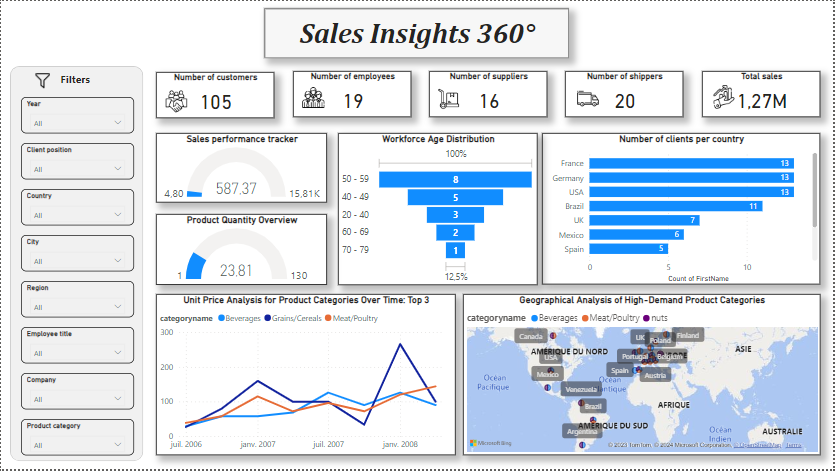

This screenshot's page, from the dashboard's own definition file:
{"tool":"powerbi","page":{"name":"Page 1","canvas":[1280,720],"ordinal":0},"visuals":[{"type":"shape","box":[405,10,469,77],"z":0},{"type":"textbox","box":[447,19,385,60],"z":1000},{"type":"shape","box":[14,100,205,608],"z":2000},{"type":"image","box":[40,106,48,33],"z":3000},{"type":"textbox","box":[71,105,87,33],"z":4000},{"type":"slicer","title":"Year","fields":{"Values":["FactSales.shippeddate.Variation.Hiérarchie de dates.Année"]},"box":[30,147,174,56],"z":5000},{"type":"slicer","title":"City","fields":{"Values":["DimClient.city"]},"box":[30,359.6,174,56],"z":6000},{"type":"slicer","title":"Country","fields":{"Values":["DimClient.country"]},"box":[30,288.7,174,56],"z":7000},{"type":"slicer","title":"Region","fields":{"Values":["DimClient.region"]},"box":[30,430.4,174,56],"z":8000},{"type":"slicer","title":"Employee title","fields":{"Values":["DimEmployee.TitleEmp"]},"box":[30,501.3,174,56],"z":9000},{"type":"slicer","title":"Company","fields":{"Values":["DimClient.companyname"]},"box":[30,572.1,174,56],"z":10000},{"type":"slicer","title":"Client position","fields":{"Values":["DimClient.contacttitle"]},"box":[30,217.9,174,56],"z":11000},{"type":"slicer","title":"Product category","fields":{"Values":["DimProduct.categoryname"]},"box":[30,643,174,56],"z":12000},{"type":"gauge","title":"Sales performance tracker","fields":{"Y":["Avg(FactSales.Tot_Sales)"],"MinValue":["Min(FactSales.Tot_Sales)"],"MaxValue":["Max(FactSales.Tot_Sales)"]},"box":[239,203,263,107],"z":13000},{"type":"card","title":"Number of customers","fields":{"Values":["CountNonNull(DimClient.custid)"]},"box":[239,109,182,71],"z":14000},{"type":"card","title":"Number of employees","fields":{"Values":["Count(DimEmployee.empid)"]},"box":[448.8,108,182,71],"z":15000},{"type":"card","title":"Number of suppliers","fields":{"Values":["Count(DimSuppliers.supplierid)"]},"box":[658.5,108,182,71],"z":16000},{"type":"card","title":"Number of shippers","fields":{"Values":["Count(DimShippers.shipperid)"]},"box":[868.2,108,182,71],"z":17000},{"type":"card","title":"Total sales","fields":{"Values":["Sum(FactSales.Tot_Sales)"]},"box":[1078,108,182,71],"z":18000},{"type":"image","box":[247,118,44,71],"z":19000},{"type":"image","box":[459,119,44,60],"z":20000},{"type":"image","box":[881,110,43,79],"z":21000},{"type":"image","box":[668,118,42,63],"z":22000},{"type":"image","box":[1086,125,51,46],"z":23000},{"type":"clusteredBarChart","title":"Number of clients per country","fields":{"Category":["DimClient.country"],"Y":["Count(DimClient.FirstName)"]},"box":[832.2,203.3,427.8,233.3],"z":24000},{"type":"funnel","title":"Workforce Age Distribution","fields":{"Category":["DimEmployee.Age_category"],"Y":["Count(DimEmployee.empid)"]},"box":[519,203,307,234],"z":25000},{"type":"gauge","title":"Product Quantity Overview","fields":{"Y":["Avg(FactSales.quantity)"],"MinValue":["Min(FactSales.quantity)"],"MaxValue":["Max(FactSales.quantity)"]},"box":[239,328,263,109],"z":26000},{"type":"lineChart","title":"Unit Price Analysis for Product Categories Over Time: Top 3","fields":{"Category":["FactSales.shippeddate.Variation.Hiérarchie de dates.Année","FactSales.shippeddate.Variation.Hiérarchie de dates.Trimestre"],"Y":["Sum(FactSales.unitprice)"],"Series":["DimProduct.categoryname"]},"box":[238.9,451.1,461.1,247.8],"z":27000},{"type":"map","title":"Geographical Analysis of High-Demand Product Categories","fields":{"Series":["DimProduct.categoryname"],"Category":["DimClient.country"]},"box":[710,451.1,550,247.8],"z":28000}]}

Visuals, with their boxes in screenshot pixels (x1, y1, x2, y2), scaled from the page's 1280x720 canvas onto the 836x473 screenshot:
shape: x1=265, y1=7, x2=571, y2=57
textbox: x1=292, y1=12, x2=543, y2=52
shape: x1=9, y1=66, x2=143, y2=465
image: x1=26, y1=70, x2=57, y2=91
textbox: x1=46, y1=69, x2=103, y2=91
"Year" slicer: x1=20, y1=97, x2=133, y2=133
"City" slicer: x1=20, y1=236, x2=133, y2=273
"Country" slicer: x1=20, y1=190, x2=133, y2=226
"Region" slicer: x1=20, y1=283, x2=133, y2=320
"Employee title" slicer: x1=20, y1=329, x2=133, y2=366
"Company" slicer: x1=20, y1=376, x2=133, y2=413
"Client position" slicer: x1=20, y1=143, x2=133, y2=180
"Product category" slicer: x1=20, y1=422, x2=133, y2=459
"Sales performance tracker" gauge: x1=156, y1=133, x2=328, y2=204
"Number of customers" card: x1=156, y1=72, x2=275, y2=118
"Number of employees" card: x1=293, y1=71, x2=412, y2=118
"Number of suppliers" card: x1=430, y1=71, x2=549, y2=118
"Number of shippers" card: x1=567, y1=71, x2=686, y2=118
"Total sales" card: x1=704, y1=71, x2=823, y2=118
image: x1=161, y1=78, x2=190, y2=124
image: x1=300, y1=78, x2=329, y2=118
image: x1=575, y1=72, x2=603, y2=124
image: x1=436, y1=78, x2=464, y2=119
image: x1=709, y1=82, x2=743, y2=112
"Number of clients per country" clusteredBarChart: x1=544, y1=134, x2=823, y2=287
"Workforce Age Distribution" funnel: x1=339, y1=133, x2=539, y2=287
"Product Quantity Overview" gauge: x1=156, y1=215, x2=328, y2=287
"Unit Price Analysis for Product Categories Over Time: Top 3" lineChart: x1=156, y1=296, x2=457, y2=459
"Geographical Analysis of High-Demand Product Categories" map: x1=464, y1=296, x2=823, y2=459
